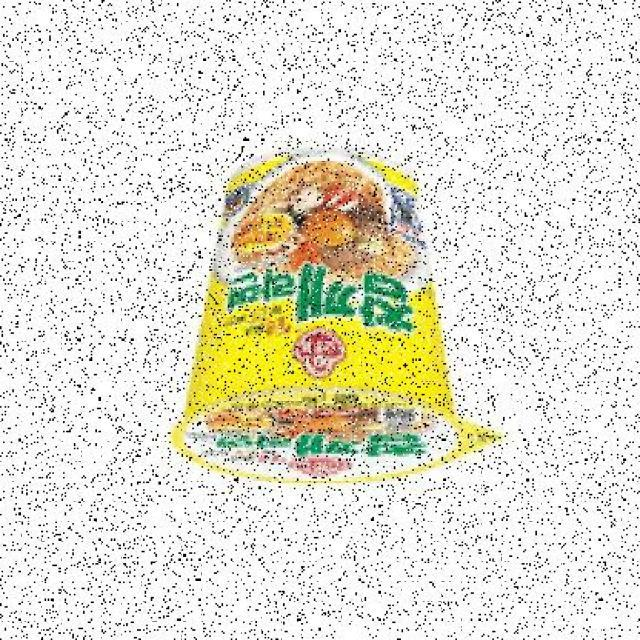Miscellaneous: (181, 136, 468, 492)
